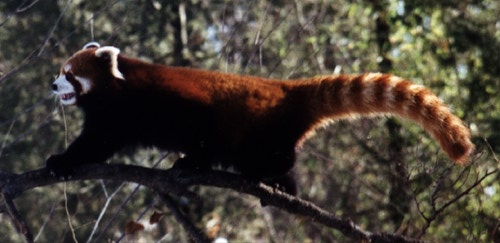red_panda: (47, 37, 466, 192)
